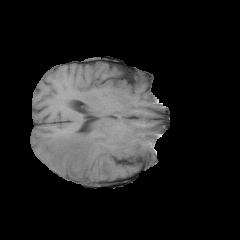glioma: (42, 132, 112, 181)
